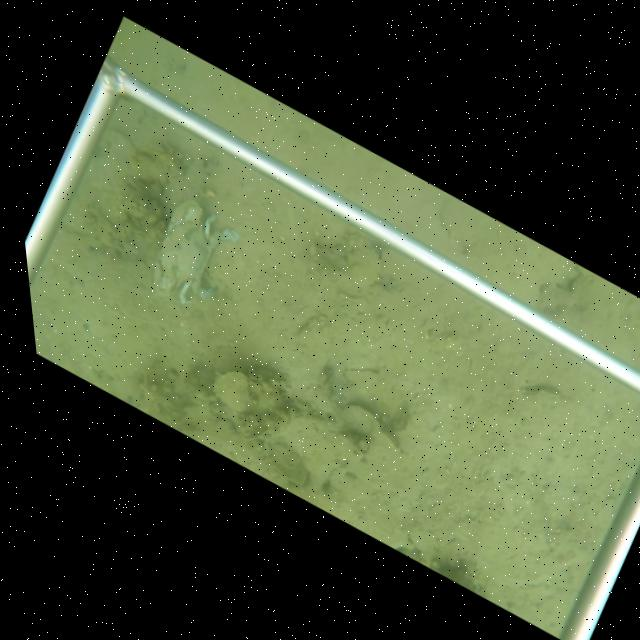Oyster-Closed: (341, 400, 402, 456), (260, 435, 312, 490), (517, 385, 566, 407)
Oyster-Indeterminate: (208, 366, 292, 417)
